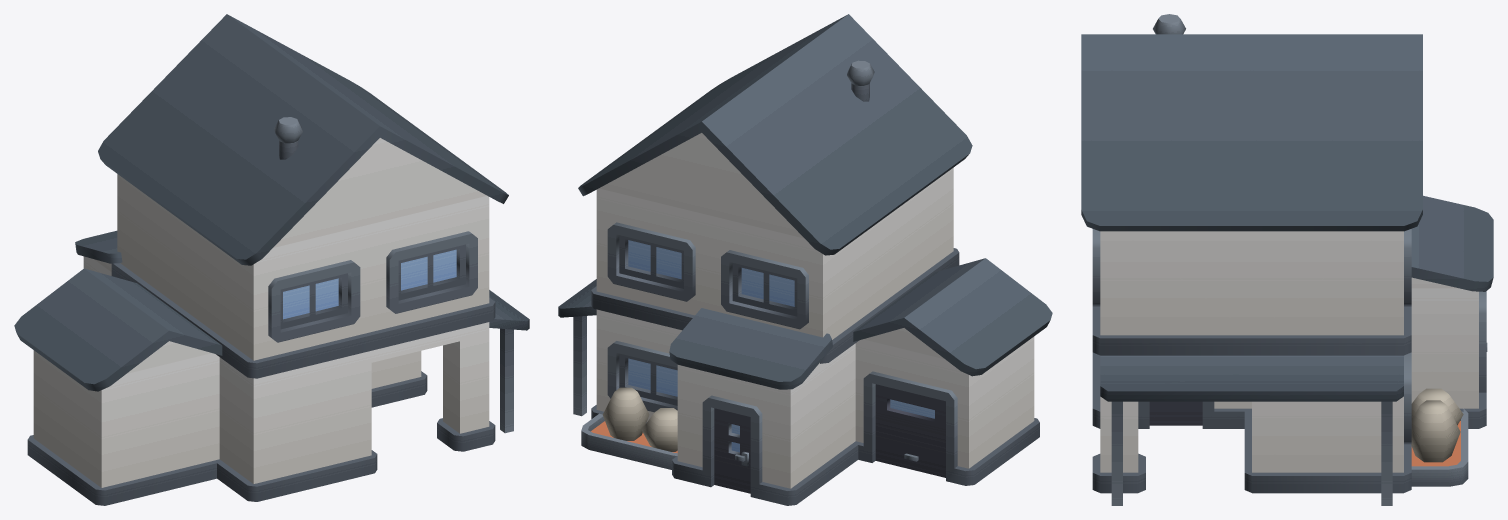
Rendered from sub-building-type-s.glb.
The picture shows the model from 3 angles, left to right: view 1: azimuth 30°, elevation 25°; view 2: azimuth 150°, elevation 25°; view 3: azimuth 270°, elevation 25°; orthographic projection. The views are drawn at different scales.
Visible parts, largest first — view 1: building-type-s; view 2: building-type-s; view 3: building-type-s.
Boxes of the visible parts, left/top/right/bottom form: building-type-s: left=14, top=14, right=529, bottom=505; building-type-s: left=558, top=14, right=1052, bottom=505; building-type-s: left=1081, top=14, right=1493, bottom=505.
Size of the model in its own units: 1.41 by 1.14 by 1.09.
1 material, 1 textured.
